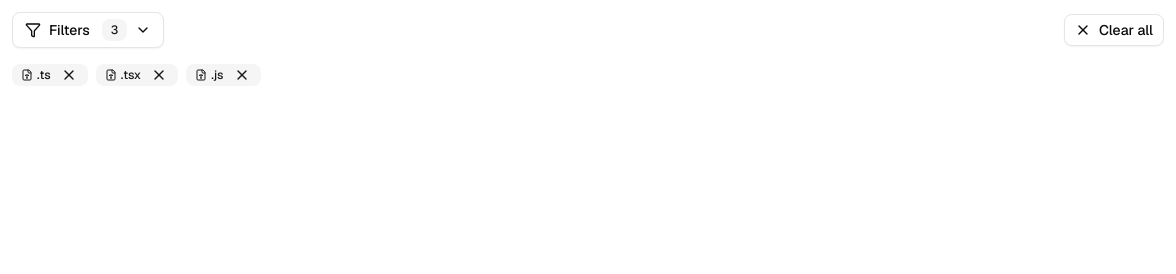
TimelineFilters › shows selected file types count
This screenshot has width=1176, height=274.
# Expand filters
Click the button "Filters 3" at (88, 30), box 12,12 -> 164,48
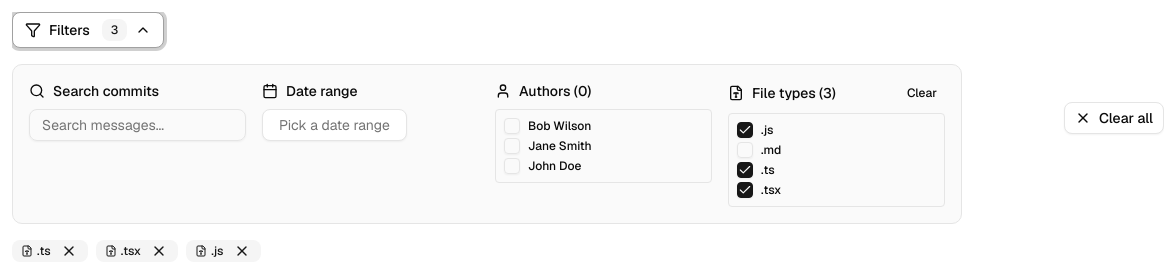
expect the text "File types (3)" is shown: met, box 728,83 -> 836,103
